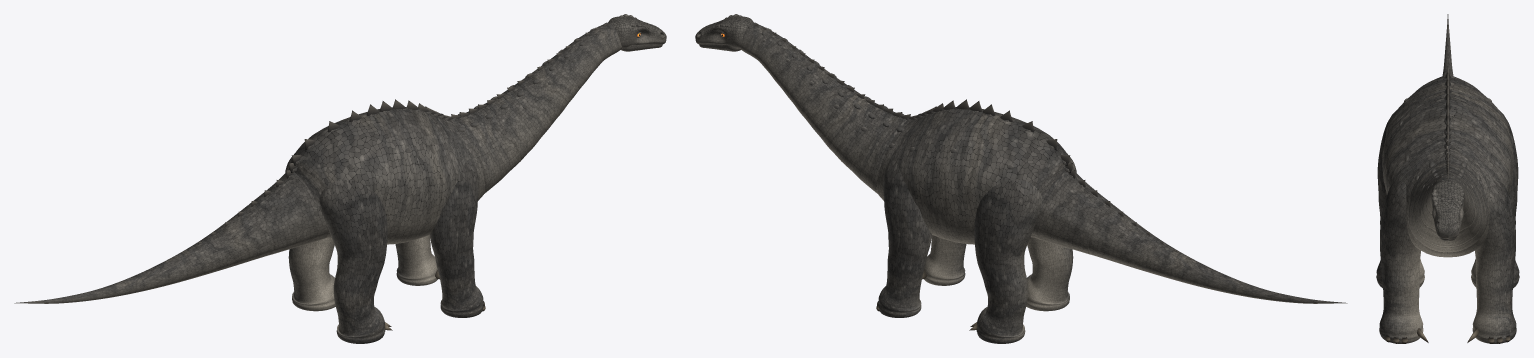
File: apato.glb
3 renders of one model, left to right at view 1: azimuth 30°, elevation 25°; view 2: azimuth 150°, elevation 25°; view 3: azimuth 270°, elevation 25°, orthographic. The views are drawn at different scales.
Parts seen in each view (by area): view 1: Apato_Torso, Apato_Hindlimb_3, Apato_Forelimb_1, Apato_TailSeg0, Apato_Hindlimb_2, Apato_TailSeg1, Apato_NeckSeg0, Apato_NeckSeg1, Apato_NeckSeg2, Apato_TailSeg2, Apato_Forelimb_0, Apato_NeckSeg3 (+4 smaller); view 2: Apato_Torso, Apato_Hindlimb_2, Apato_Forelimb_0, Apato_TailSeg0, Apato_Hindlimb_3, Apato_TailSeg1, Apato_NeckSeg0, Apato_NeckSeg1, Apato_NeckSeg2, Apato_TailSeg2, Apato_Forelimb_1, Apato_NeckSeg3 (+4 smaller); view 3: Apato_Torso, Apato_Forelimb_1, Apato_Forelimb_0, Apato_NeckSeg0, Apato_UpperCranium, Apato_NeckSeg1, Apato_Hindlimb_2, Apato_Hindlimb_3, Apato_NeckSeg2, Apato_TailSeg4, Apato_NeckSeg3, Apato_NeckSeg4.
Boxes of the visible parts, x1,y1,x2,y2 form: Apato_Torso: (288, 107, 485, 244); Apato_Hindlimb_3: (319, 179, 387, 343); Apato_Forelimb_1: (430, 160, 483, 317); Apato_TailSeg0: (249, 172, 329, 254); Apato_Hindlimb_2: (285, 153, 335, 311); Apato_TailSeg1: (202, 204, 273, 271); Apato_NeckSeg0: (455, 107, 520, 193); Apato_NeckSeg1: (483, 84, 551, 161); Apato_NeckSeg2: (516, 60, 579, 124); Apato_TailSeg2: (152, 239, 216, 287); Apato_Forelimb_0: (395, 235, 437, 285); Apato_NeckSeg3: (551, 35, 602, 89); Apato_Torso: (876, 107, 1073, 244); Apato_Hindlimb_2: (974, 179, 1042, 343); Apato_Forelimb_0: (878, 160, 931, 317); Apato_TailSeg0: (1032, 172, 1112, 254); Apato_Hindlimb_3: (1026, 153, 1076, 311); Apato_TailSeg1: (1088, 204, 1159, 271); Apato_NeckSeg0: (841, 107, 906, 192); Apato_NeckSeg1: (810, 84, 878, 161); Apato_NeckSeg2: (782, 58, 845, 124); Apato_TailSeg2: (1145, 239, 1209, 287); Apato_Forelimb_1: (924, 235, 966, 285); Apato_NeckSeg3: (759, 35, 810, 89); Apato_Torso: (1382, 75, 1513, 257); Apato_Forelimb_1: (1379, 180, 1423, 343); Apato_Forelimb_0: (1472, 180, 1516, 343); Apato_NeckSeg0: (1407, 160, 1488, 252); Apato_UpperCranium: (1431, 180, 1464, 238); Apato_NeckSeg1: (1414, 171, 1481, 247); Apato_Hindlimb_2: (1471, 109, 1519, 288); Apato_Hindlimb_3: (1376, 109, 1424, 288); Apato_NeckSeg2: (1421, 179, 1474, 231); Apato_TailSeg4: (1443, 14, 1452, 70); Apato_NeckSeg3: (1426, 173, 1469, 213); Apato_NeckSeg4: (1434, 174, 1461, 185).
Size of the model in its own units: 11.58 by 3.94 by 2.09.
9 materials, 7 textured.
